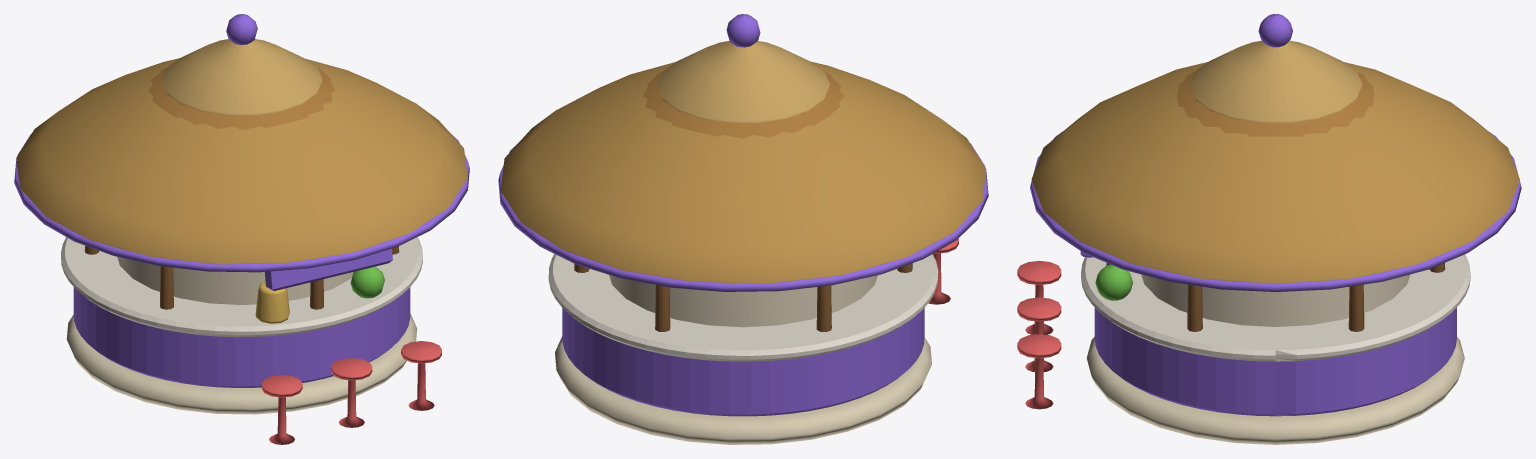
Rendered from quiosque_4.glb.
The picture shows the model from 3 angles, left to right: view 1: azimuth 30°, elevation 25°; view 2: azimuth 150°, elevation 25°; view 3: azimuth 270°, elevation 25°; orthographic projection. The views are drawn at different scales.
Visible parts, largest first — view 1: quiosque_4_corpo; view 2: quiosque_4_corpo; view 3: quiosque_4_corpo.
Boxes of the visible parts, x1=… form: quiosque_4_corpo: x1=14, y1=14, x2=469, y2=444; quiosque_4_corpo: x1=498, y1=14, x2=988, y2=444; quiosque_4_corpo: x1=1017, y1=14, x2=1521, y2=444.
Size of the model in its own units: 6.24 by 4.92 by 6.4.
